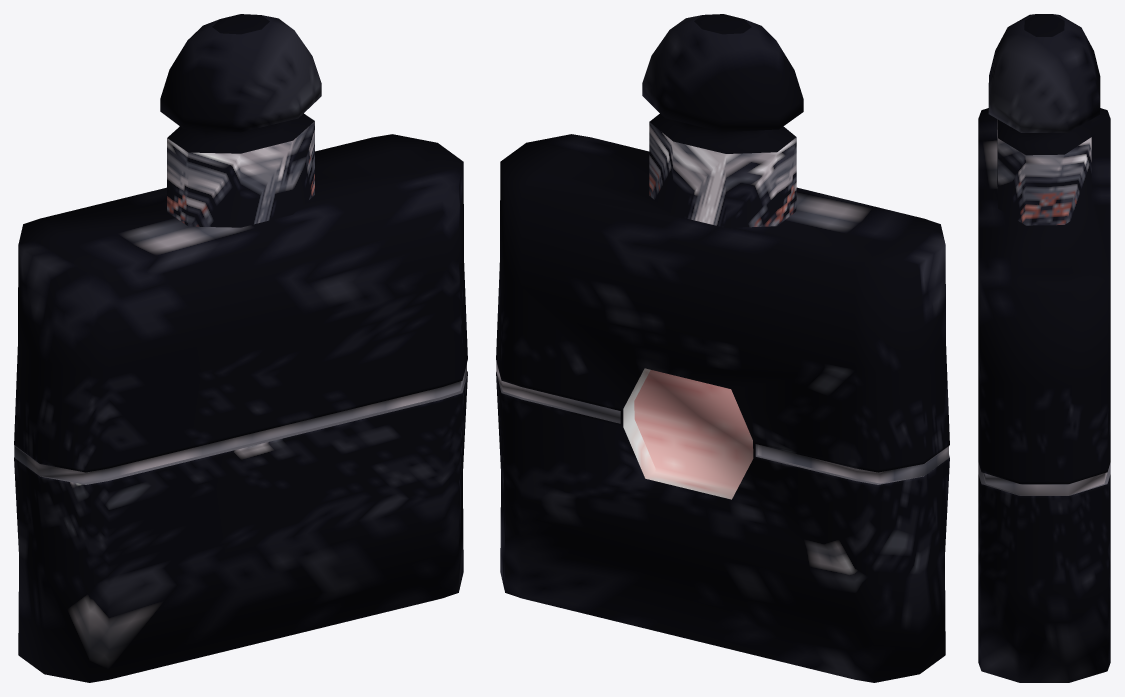
Rendered from Perfume3.fbx.
3 renders of one model, left to right at view 1: azimuth 30°, elevation 25°; view 2: azimuth 150°, elevation 25°; view 3: azimuth 270°, elevation 25°, orthographic. The views are drawn at different scales.
Parts seen in each view (by area): view 1: Cube; view 2: Cube; view 3: Cube.
Boxes of the visible parts, x1,y1,x2,y2 form: Cube: (14,14,467,682); Cube: (496,14,949,682); Cube: (978,14,1110,682).
Bounding box in the file's own units: 62.89 × 82.76 × 17.66.
